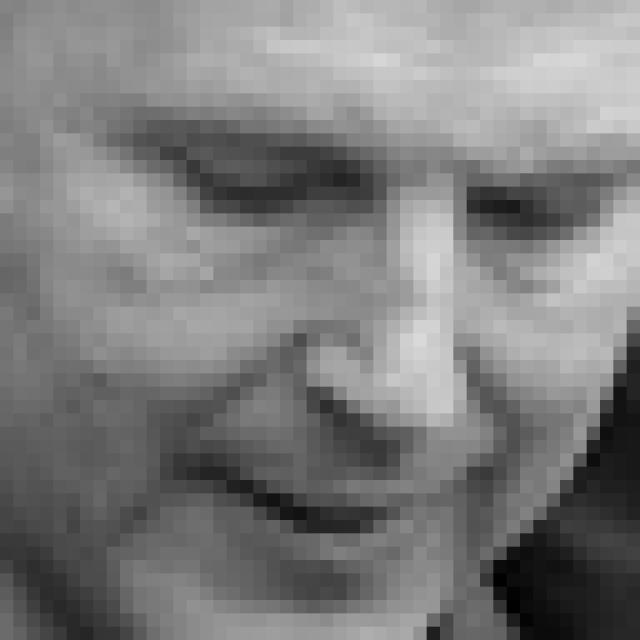sad: (98, 81, 640, 603)
